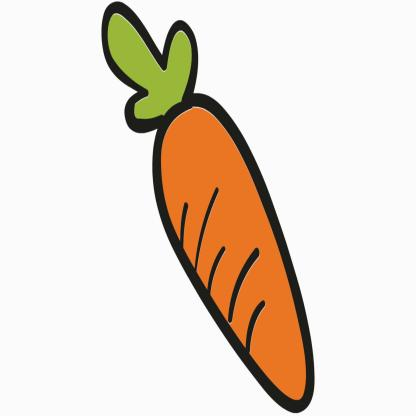--: (94, 2, 320, 416)
